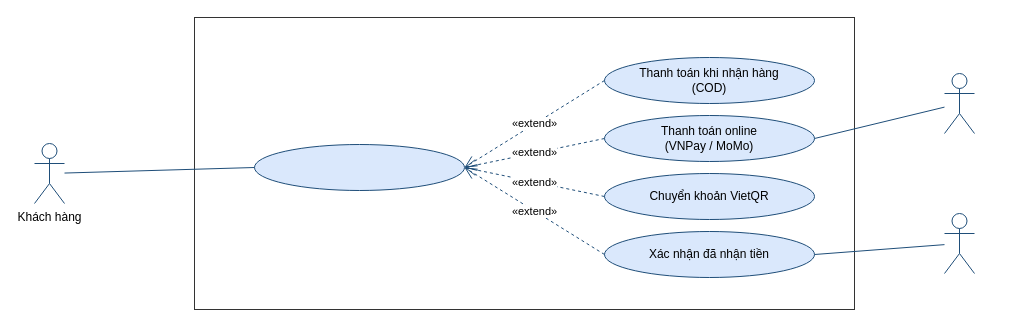
The diagram is 1023 pixels wide and 327 high, and some of its shapes have lost their labels. Here are the shapes that lost their labels. From the top down, the centre of each, then its label:
At point 959,103: "«hệ thống ngoài» Cổng thanh toán".
At point 359,167: "Thanh toán đơn hàng".
At point 959,243: "Dược sĩ".
